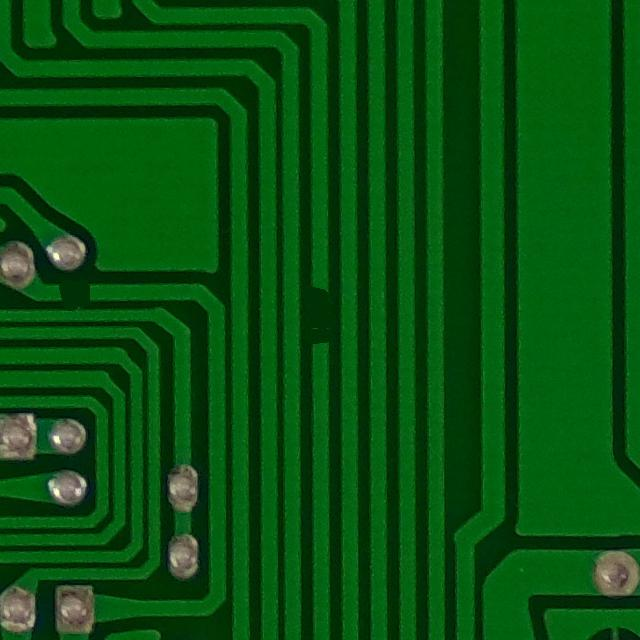open_circuit: (302, 280, 338, 361)
